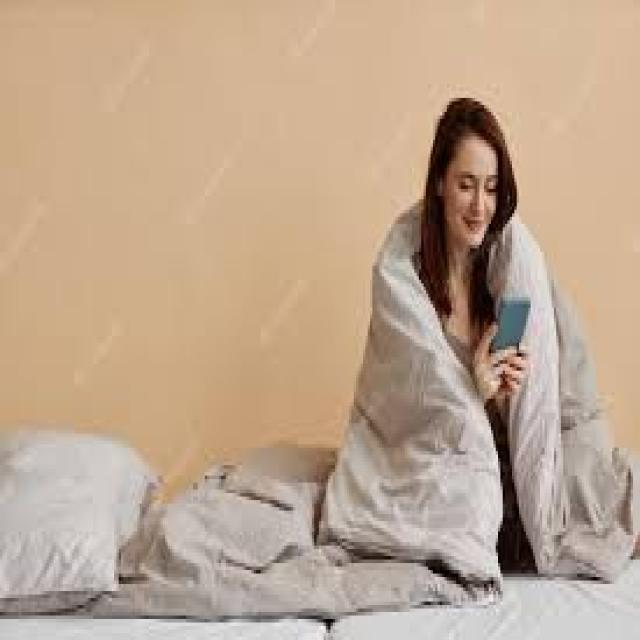blanket: (96, 210, 632, 618)
